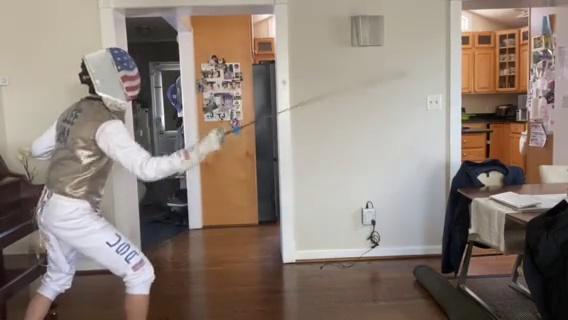blade-guard: (213, 124, 227, 147)
blade-tip: (354, 74, 399, 92)
fencing-blade: (206, 73, 402, 150)
